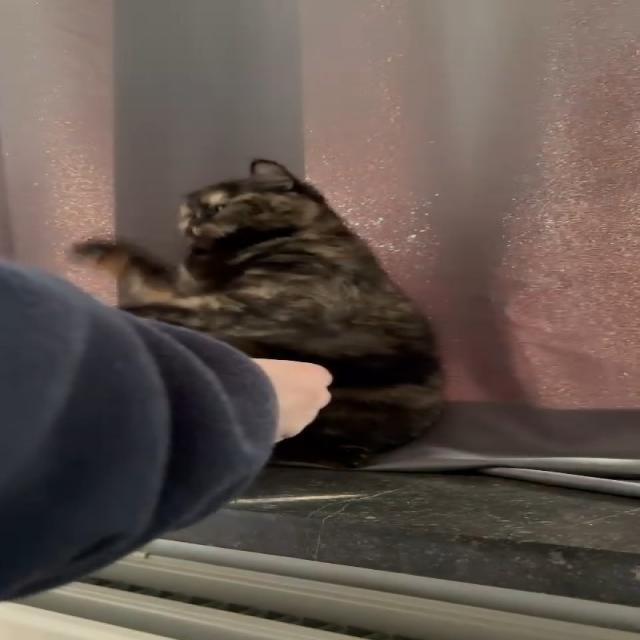authorized: (72, 158, 448, 468)
